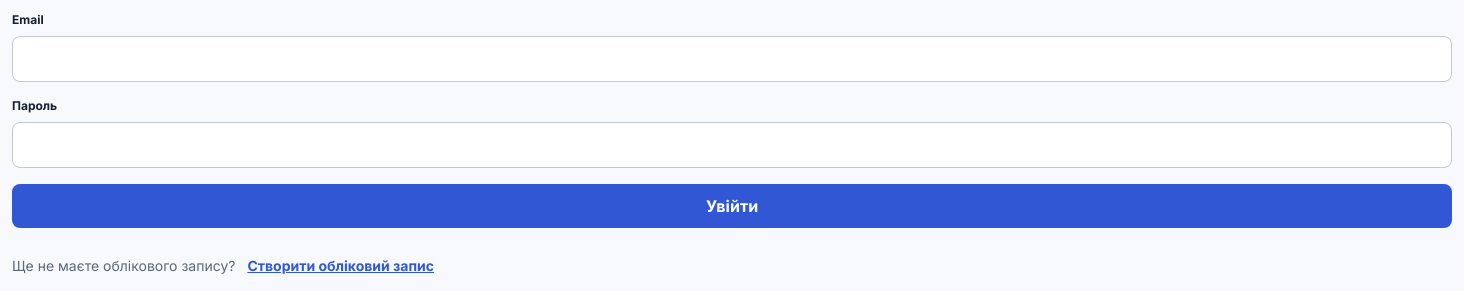
LoginForm › disables only the submit button while the login request is pending
Type "olena@example.com" into the field labelled "Email". click: [732, 59]
box: top-left (12, 36), bottom-right (1452, 82)
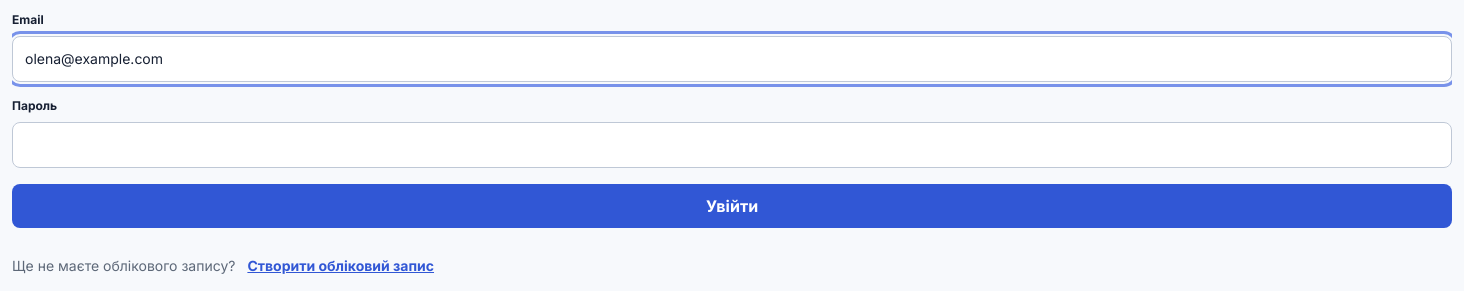
Type "secret-password" into the password field labelled "Пароль". click: [732, 145]
box: top-left (12, 122), bottom-right (1452, 168)
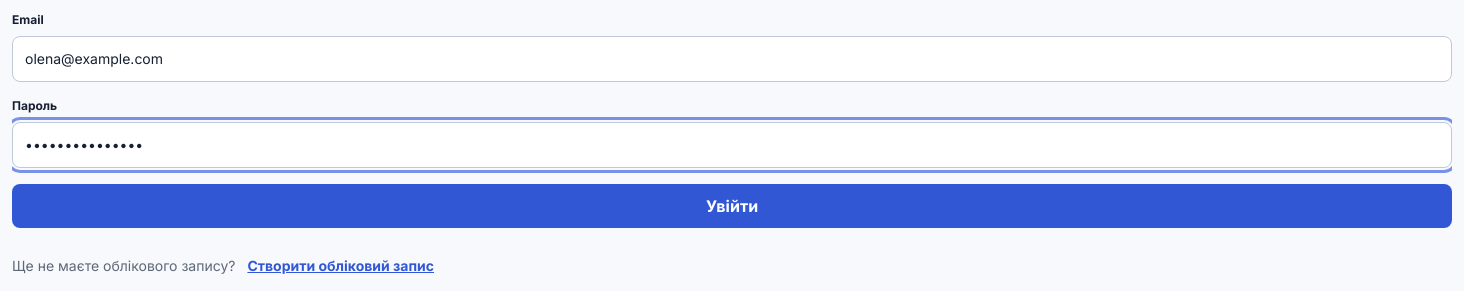
Click the button "Увійти". click: [732, 206]
box: top-left (12, 184), bottom-right (1452, 228)
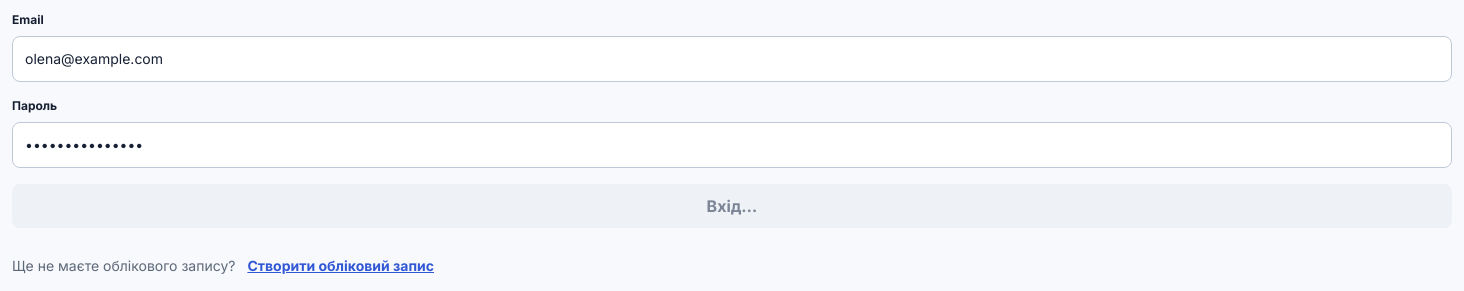
Expected: the field labelled "Email" is enabled, top-left (12, 36), bottom-right (1452, 82)
Expected: the button "Вхід…" is disabled, top-left (12, 184), bottom-right (1452, 228)
